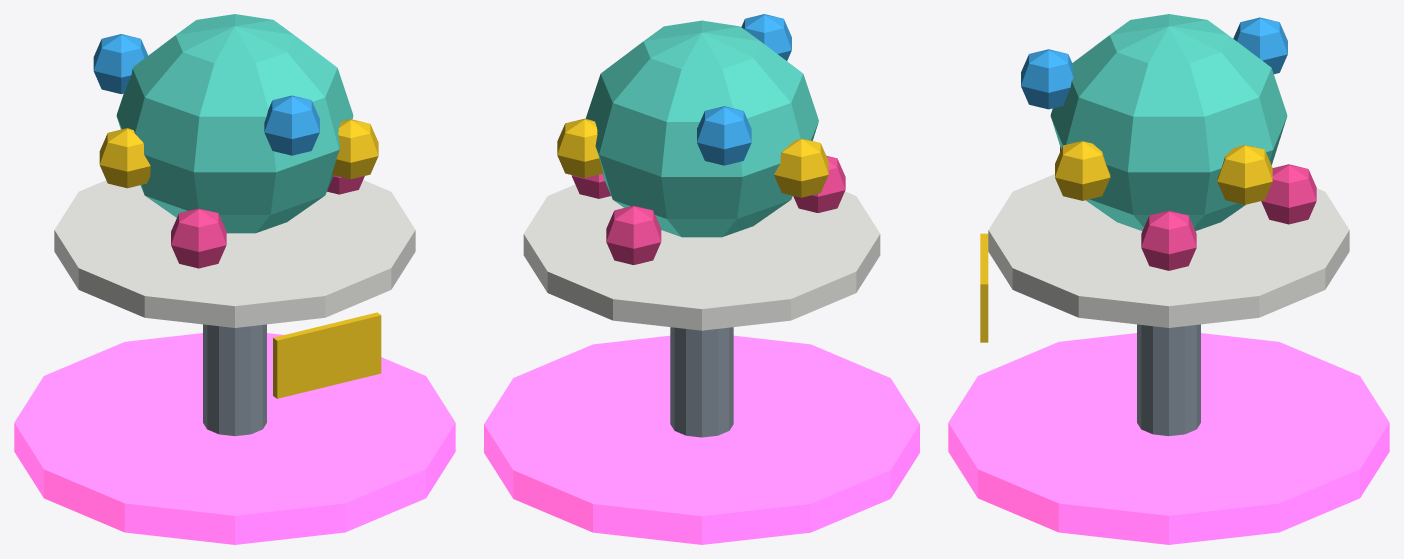
The model's file is item-marbles.glb.
The picture shows the model from 3 angles, left to right: view 1: azimuth 30°, elevation 25°; view 2: azimuth 150°, elevation 25°; view 3: azimuth 270°, elevation 25°; orthographic projection.
Visible parts, largest first — view 1: item-marbles; view 2: item-marbles; view 3: item-marbles.
Part boxes in pixels (x1,y1,x2,y2): item-marbles: (14, 14, 455, 544); item-marbles: (484, 14, 919, 544); item-marbles: (948, 14, 1389, 544).
Bounding box in the file's own units: 1.1 × 1.17 × 1.1.
